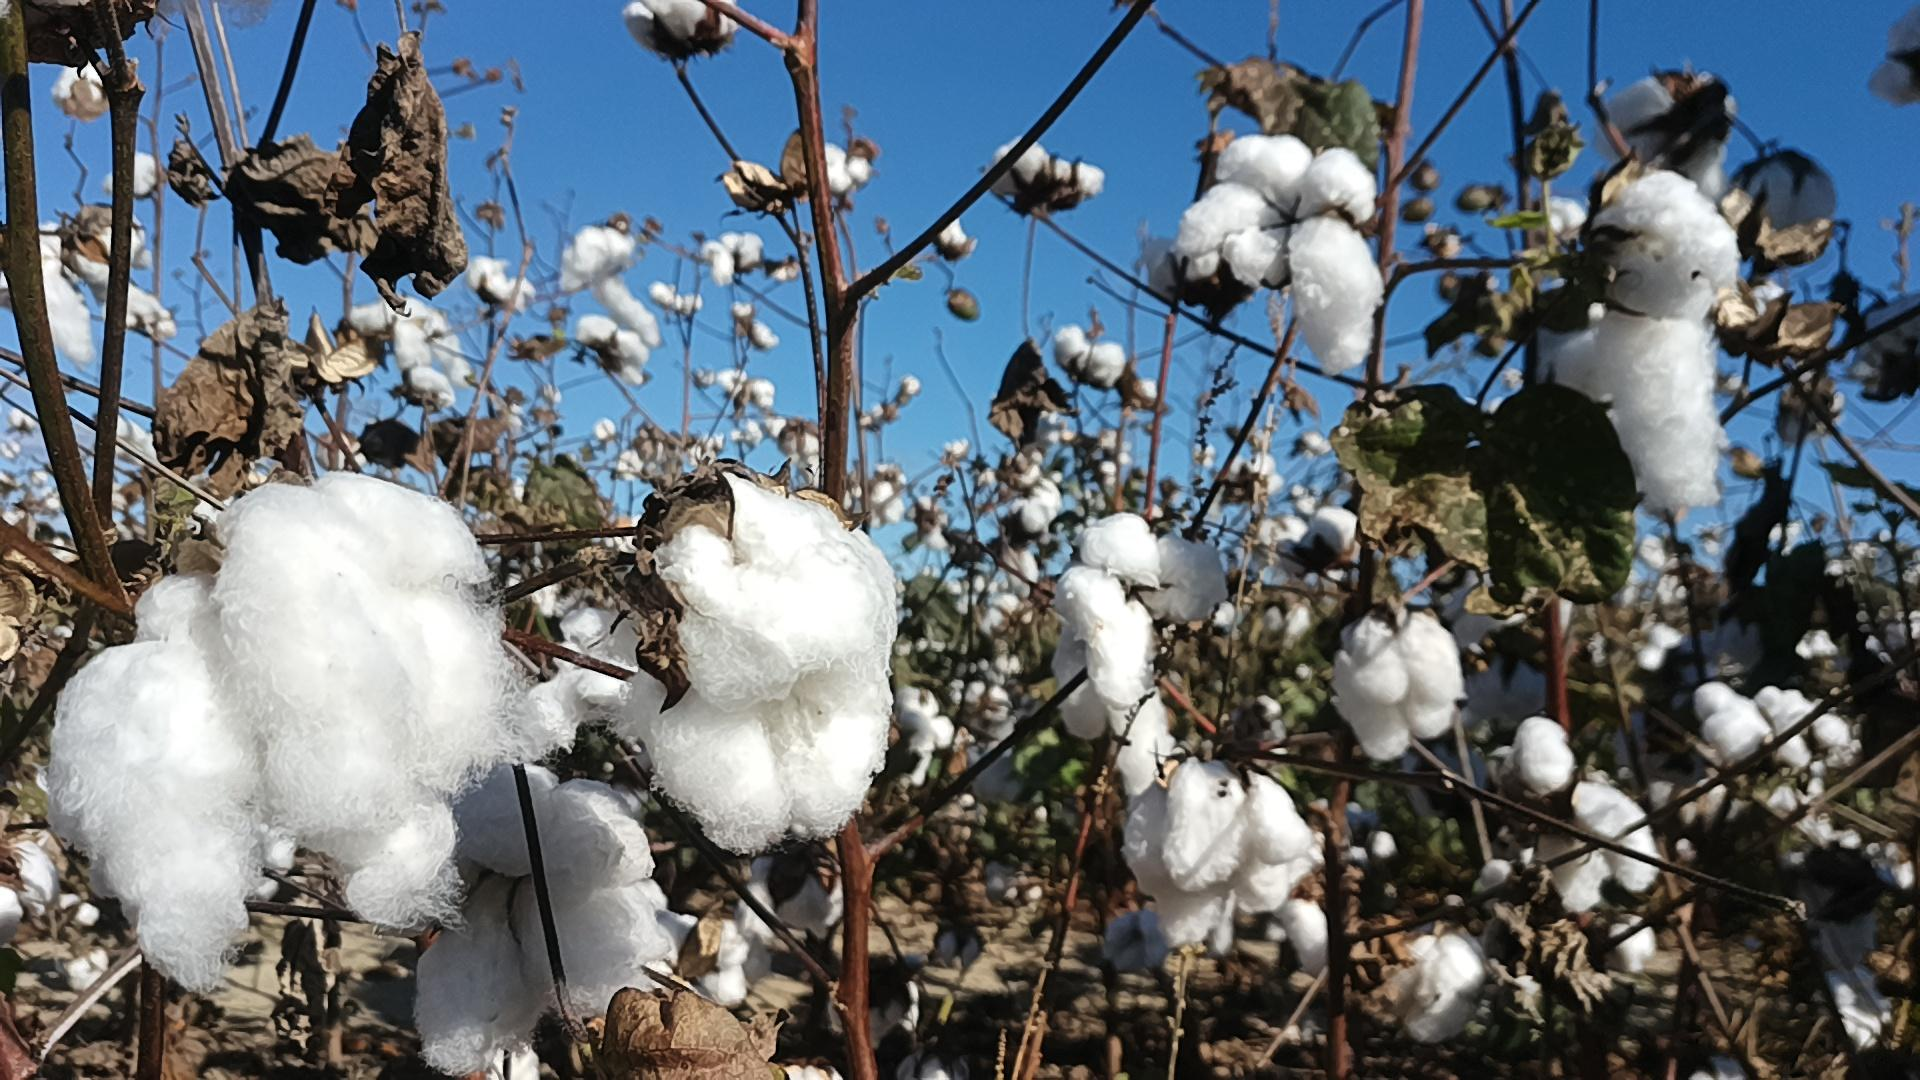cotton_ready: (42, 471, 555, 997), (605, 473, 903, 856), (415, 750, 669, 1080), (1182, 136, 1389, 378), (1122, 754, 1316, 960), (1487, 717, 1660, 909), (1553, 315, 1724, 508), (1058, 516, 1224, 703), (1589, 65, 1741, 211), (1333, 609, 1465, 758), (1602, 173, 1738, 315), (1692, 683, 1857, 779), (1377, 931, 1498, 1047), (1726, 150, 1845, 248), (622, 0, 744, 50), (1866, 7, 1920, 108)
